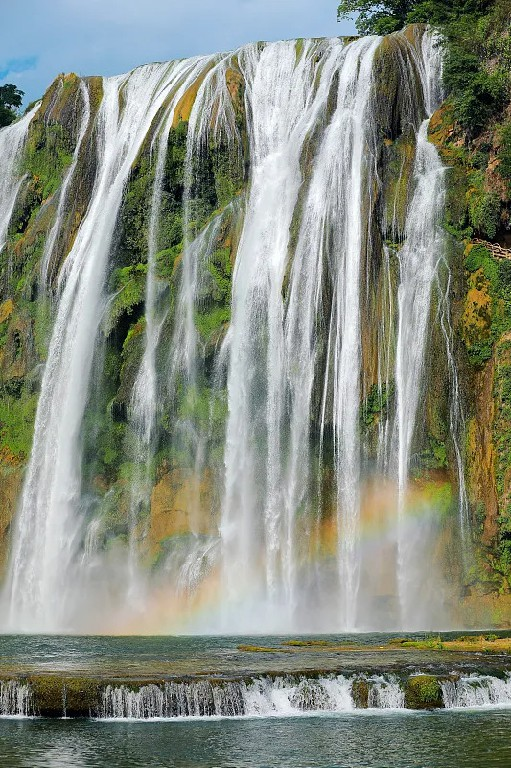Huangguoshu: (1, 37, 511, 634)
